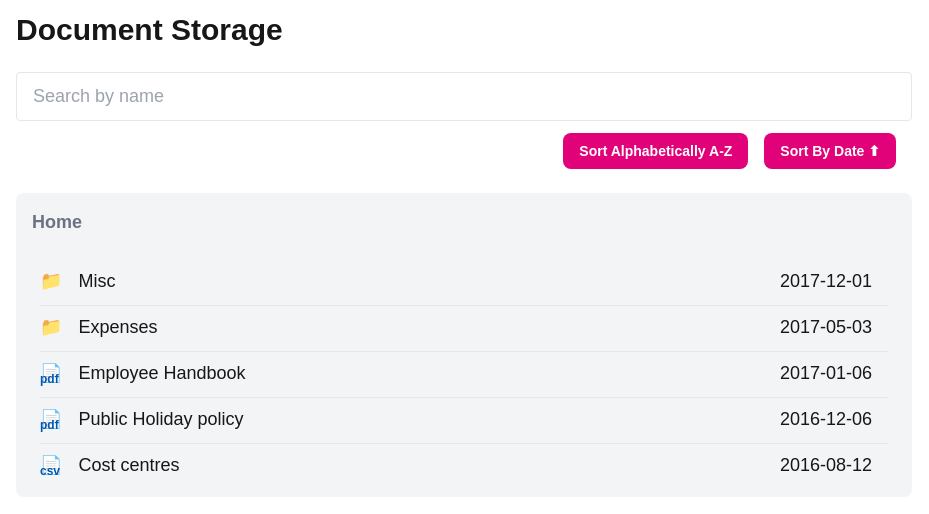
Test: Home › can display the directory contents of a folder after being clicked
Click the text "Misc": (97, 280) [78,270,116,290]
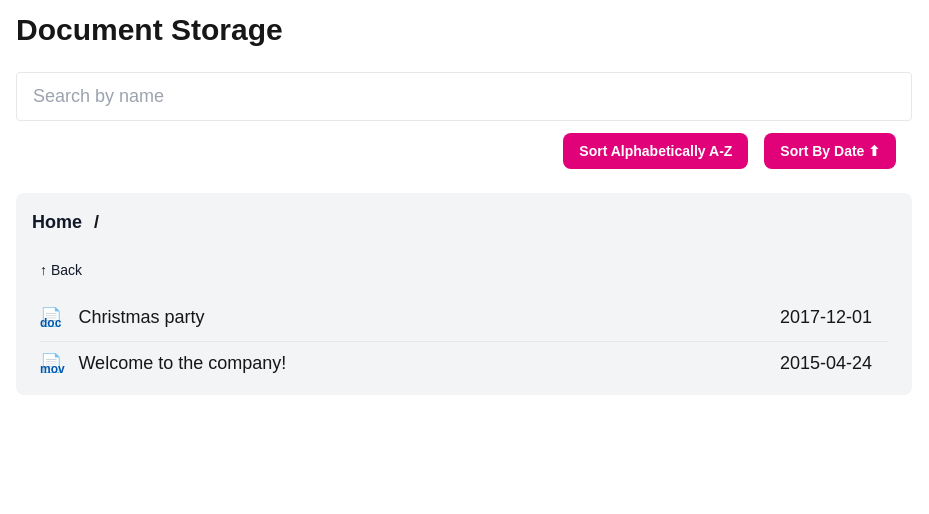
expect the number of elements with test id "file-name" is 2: met, box [78,306,204,326]; [78,352,286,372]
